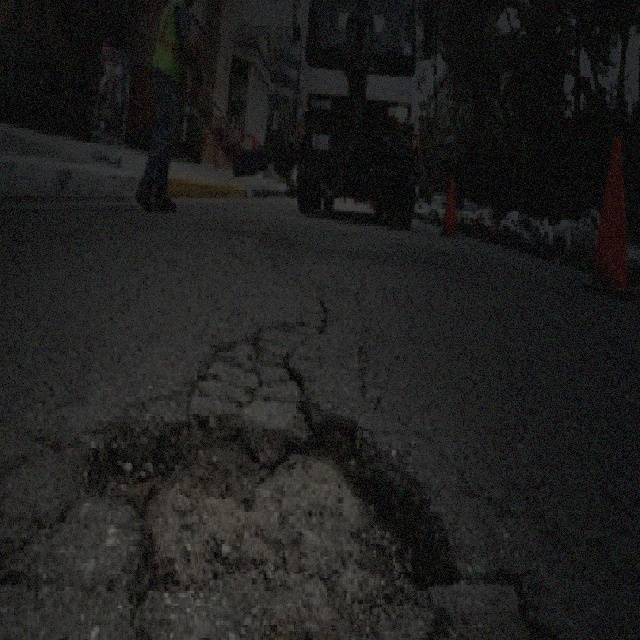pothole: (78, 399, 463, 638)
